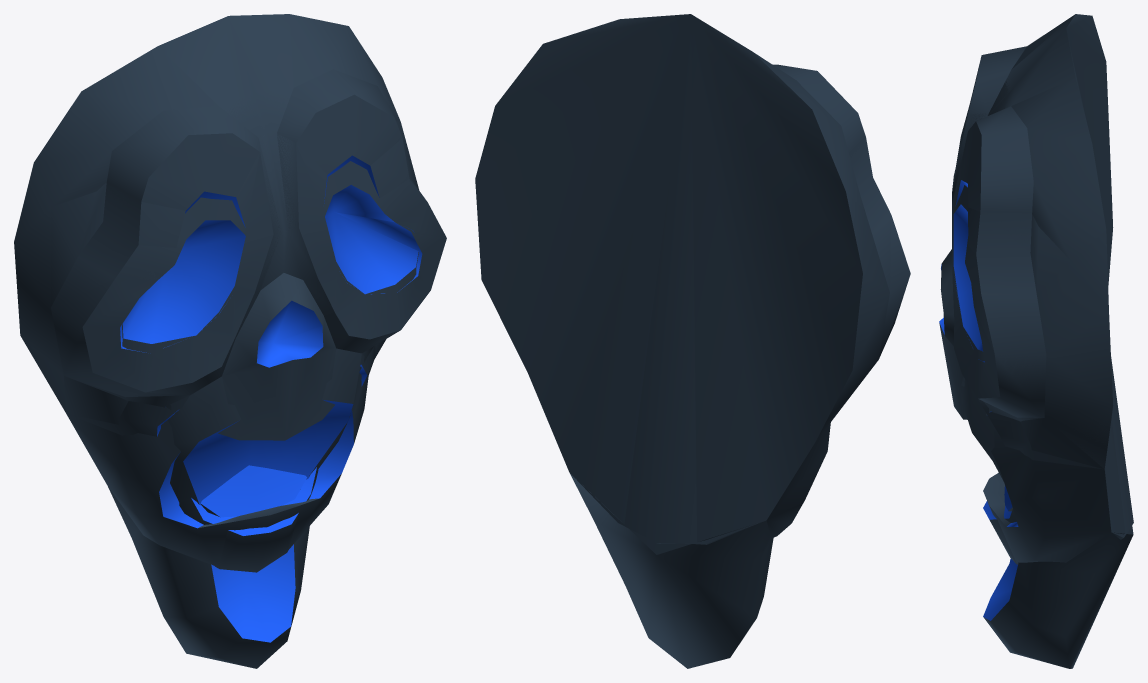
File: Nightmare_mask.fbx
The picture shows the model from 3 angles, left to right: view 1: azimuth 30°, elevation 25°; view 2: azimuth 150°, elevation 25°; view 3: azimuth 270°, elevation 25°; orthographic projection.
Visible parts, largest first — view 1: Nightmare_mask_01, Nightmare_mask_03, Nightmare_mask_02, Nightmare_mask_04; view 2: Nightmare_mask_02, Nightmare_mask_01, Nightmare_mask_04, Nightmare_mask_03; view 3: Nightmare_mask_02, Nightmare_mask_01, Nightmare_mask_04, Nightmare_mask_03.
Boxes of the visible parts, box(x1,y1,x2,y2) form: Nightmare_mask_01: box(34, 14, 429, 668); Nightmare_mask_03: box(14, 14, 446, 517); Nightmare_mask_02: box(50, 14, 446, 572); Nightmare_mask_04: box(64, 170, 426, 567); Nightmare_mask_02: box(478, 14, 891, 544); Nightmare_mask_01: box(509, 14, 865, 668); Nightmare_mask_04: box(527, 17, 830, 544); Nightmare_mask_03: box(475, 35, 910, 441); Nightmare_mask_02: box(940, 14, 1133, 564); Nightmare_mask_01: box(940, 15, 1133, 668); Nightmare_mask_04: box(943, 114, 1123, 563); Nightmare_mask_03: box(939, 15, 1075, 511).
Bounding box in the file's own units: 48.22 × 77.53 × 21.37.
